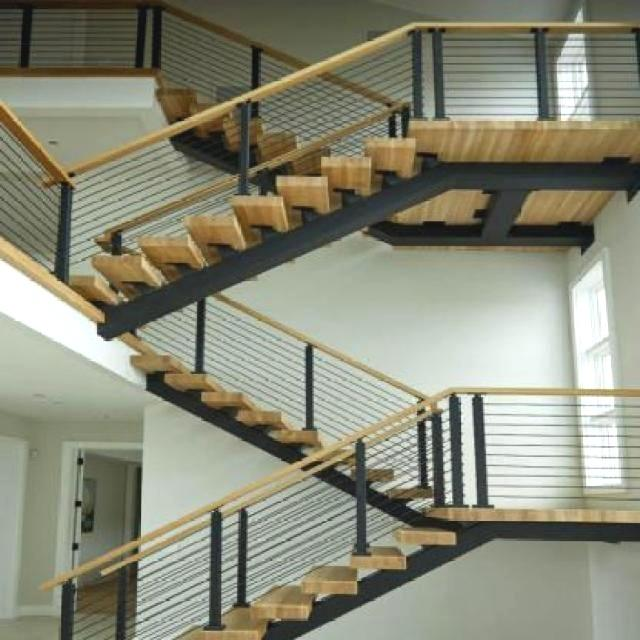stair: (24, 344, 638, 640), (75, 34, 513, 320)
